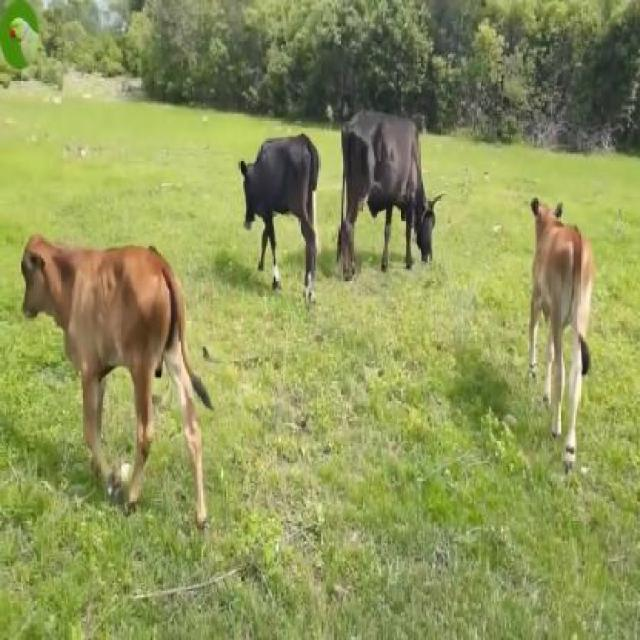Cow: (22, 229, 210, 531), (531, 189, 595, 465), (341, 114, 437, 288), (240, 128, 320, 300)
